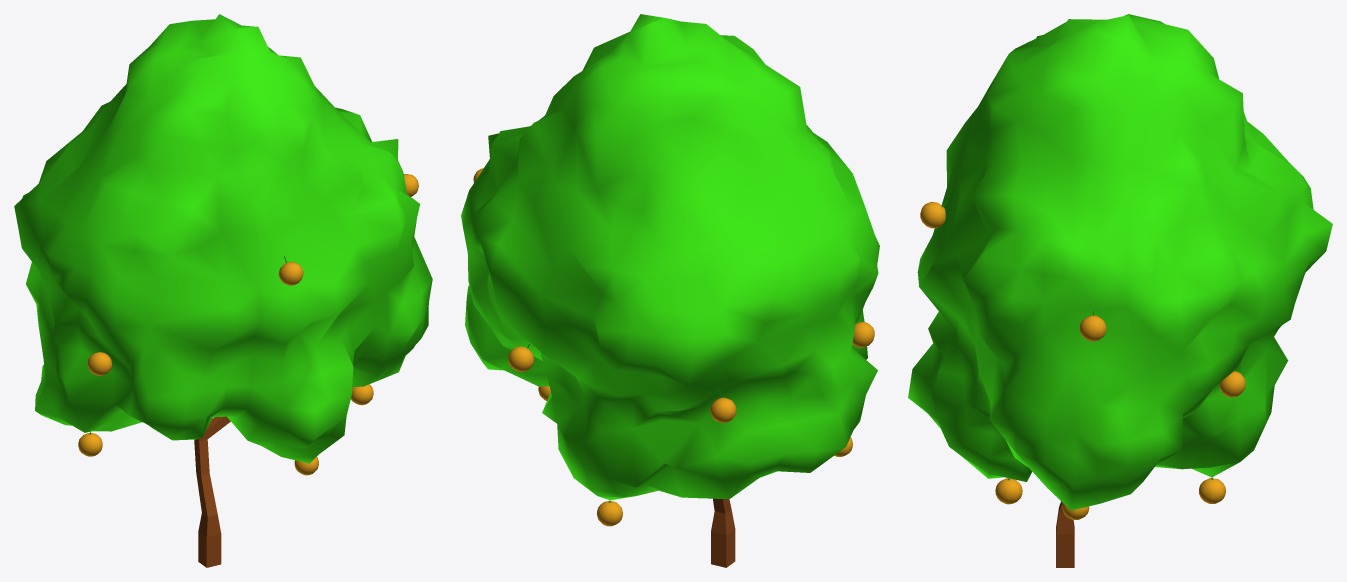
File: SM_OrangeTree_002_LOD2.fbx
3 renders of one model, left to right at view 1: azimuth 30°, elevation 25°; view 2: azimuth 150°, elevation 25°; view 3: azimuth 270°, elevation 25°, orthographic. The views are drawn at different scales.
Parts seen in each view (by area): view 1: OrangeTree_02; view 2: OrangeTree_02; view 3: OrangeTree_02.
Boxes of the visible parts, <box> form: OrangeTree_02: <box>14,14,432,567</box>; OrangeTree_02: <box>461,14,879,567</box>; OrangeTree_02: <box>908,14,1332,567</box>.
Bounding box in the file's own units: 361 × 485 × 328.
